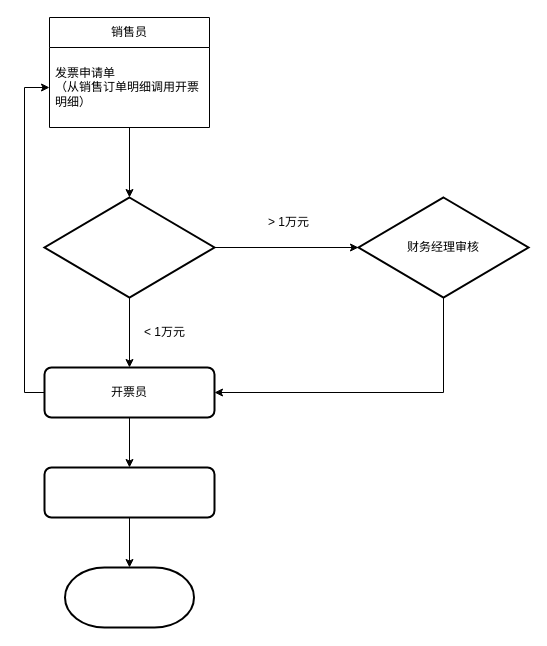
This 547x646 diagram has some shape labels left out. Each missing label, with the box of its shape:
开票总金额-已出货金额: (43, 196, 215, 298)
邮件发出电子票: (43, 466, 215, 518)
